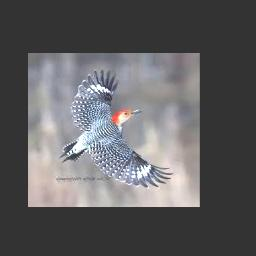Woodpecker: (59, 69, 174, 189)
